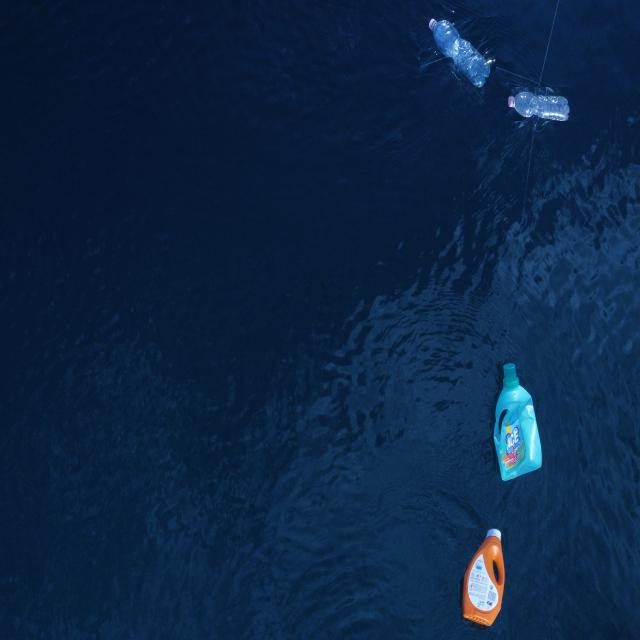bottles: (420, 17, 496, 107), (490, 358, 544, 483), (458, 528, 508, 630), (501, 88, 589, 121), (480, 565, 492, 573)
